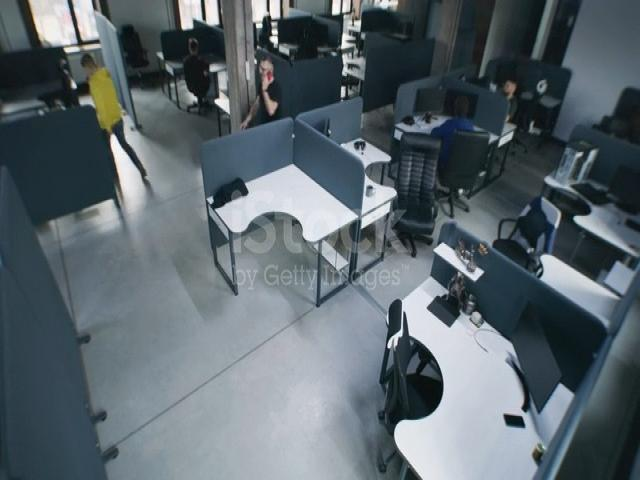empty chair: (365, 280, 441, 446), (498, 183, 557, 289), (394, 126, 441, 238), (108, 11, 169, 91), (45, 48, 90, 104), (338, 46, 368, 104)
occupiedchair: (440, 75, 488, 216), (486, 59, 543, 165), (585, 69, 640, 163), (184, 27, 214, 154)
